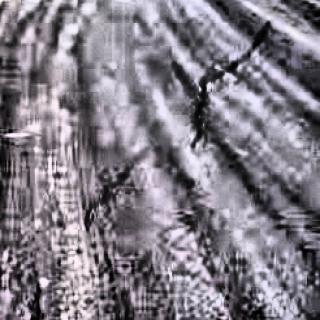crack: (191, 13, 285, 152), (84, 140, 160, 228)
